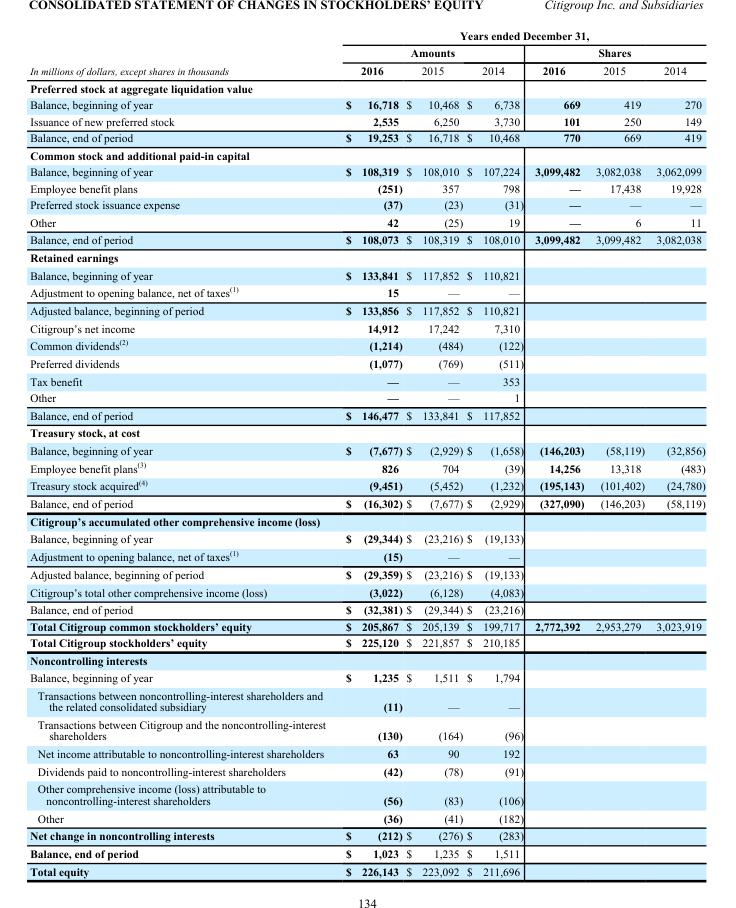table: (29, 28, 704, 877)
table column: (29, 28, 334, 877), (334, 28, 403, 877), (464, 28, 528, 877), (403, 28, 464, 877), (528, 28, 589, 877), (589, 28, 649, 877), (649, 28, 704, 877)
table column header: (29, 28, 704, 79)
table projected row header: (29, 423, 704, 441), (29, 79, 704, 96), (29, 146, 704, 163), (29, 248, 704, 265), (29, 512, 704, 529), (29, 651, 704, 668)
table row: (29, 686, 704, 715), (29, 715, 704, 744), (29, 779, 704, 808), (29, 282, 704, 301), (29, 335, 704, 354), (29, 475, 704, 494), (29, 546, 704, 565), (29, 43, 704, 61), (29, 61, 704, 79), (29, 230, 704, 248), (29, 371, 704, 389), (29, 423, 704, 441), (29, 494, 704, 512), (29, 582, 704, 600), (29, 668, 704, 686), (29, 744, 704, 762), (29, 808, 704, 826), (29, 826, 704, 844), (29, 79, 704, 96), (29, 112, 704, 129), (29, 129, 704, 146), (29, 146, 704, 163), (29, 179, 704, 196), (29, 196, 704, 213), (29, 213, 704, 230), (29, 248, 704, 265), (29, 265, 704, 282), (29, 301, 704, 318), (29, 318, 704, 335), (29, 354, 704, 371), (29, 389, 704, 406), (29, 406, 704, 423), (29, 441, 704, 458), (29, 458, 704, 475), (29, 512, 704, 529), (29, 529, 704, 546), (29, 565, 704, 582), (29, 600, 704, 617), (29, 617, 704, 634), (29, 634, 704, 651), (29, 651, 704, 668), (29, 762, 704, 779), (29, 844, 704, 861), (29, 96, 704, 112), (29, 163, 704, 179), (29, 861, 704, 877), (29, 28, 704, 43)
table spanning cell: (29, 28, 334, 79), (334, 28, 704, 43), (334, 43, 528, 61), (528, 43, 704, 61)
